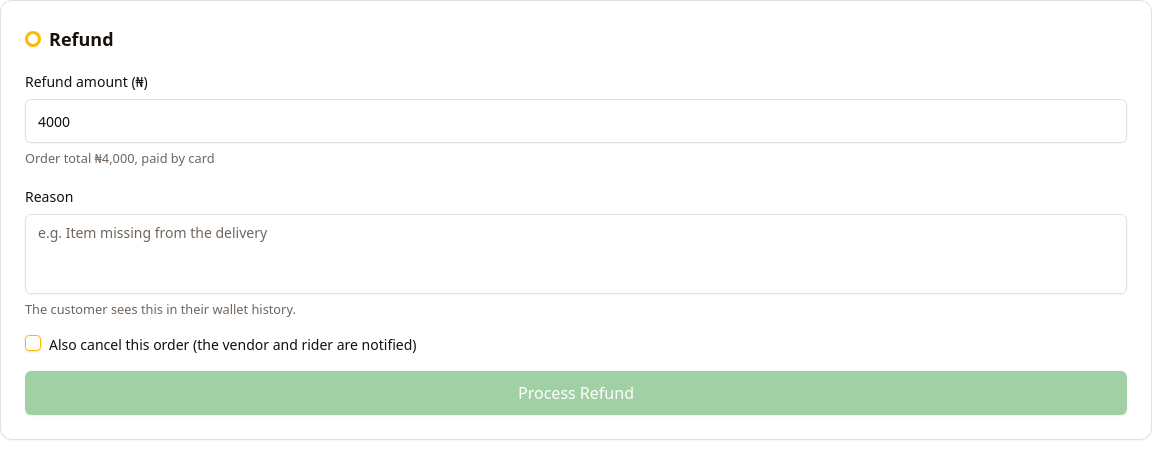
refund › rejects more than the order total
Step 1. Replace the text in the number field labelled "Refund amount (₦)" with "5000" → (576,121), box [25, 99, 1127, 143]
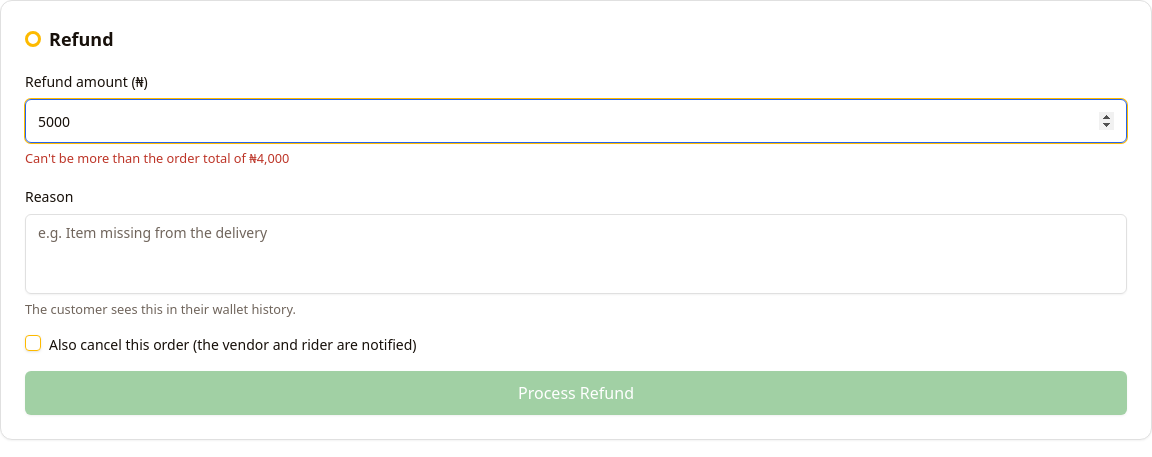
Expected: the button "Process Refund" is disabled, [25, 371, 1127, 415]
Result: the text "Can't be more than the order total of ₦4,000" is shown at [25, 149, 289, 167]
